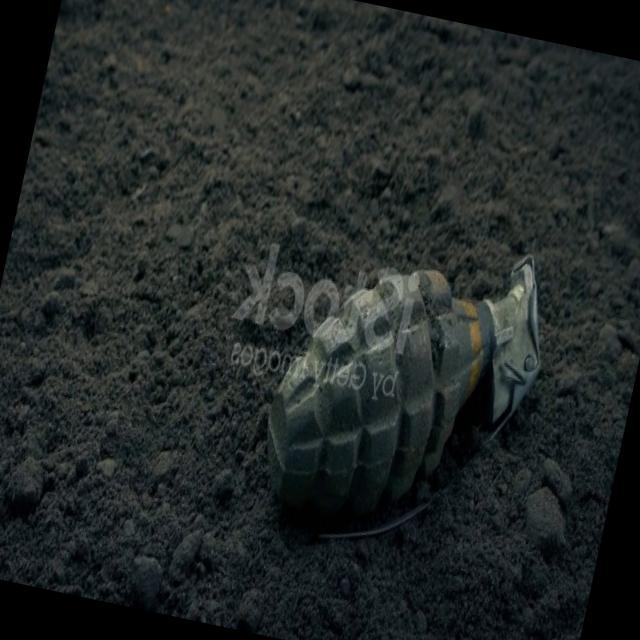grenade: (242, 209, 560, 586)
